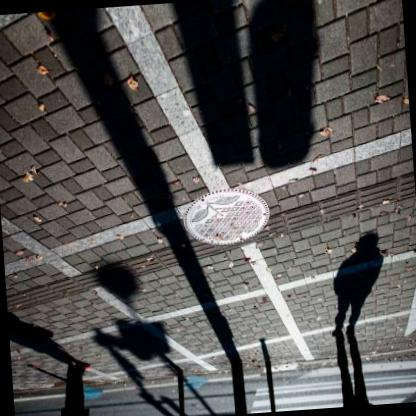manholes: (171, 172, 283, 268)
